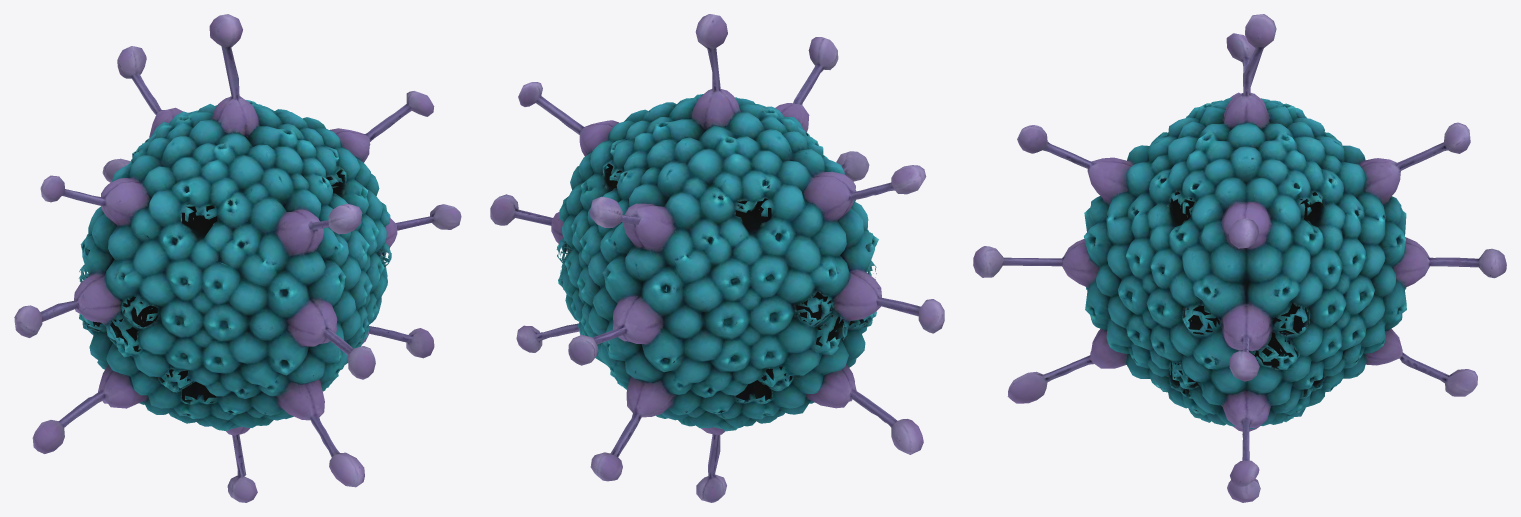
The model's file is guard.glb.
3 views of the same model, side by side, from view 1: azimuth 30°, elevation 25°; view 2: azimuth 150°, elevation 25°; view 3: azimuth 270°, elevation 25° (orthographic). The views are drawn at different scales.
Visible parts, largest first — view 1: attack-membrane; view 2: attack-membrane; view 3: attack-membrane.
Boxes of the visible parts, left/top/right/bottom form: attack-membrane: left=14, top=14, right=461, bottom=502; attack-membrane: left=490, top=14, right=944, bottom=502; attack-membrane: left=973, top=14, right=1506, bottom=502.
Bounding box in the file's own units: 1.93 × 2.01 × 2.02.
Materials: 1 (1 with a texture image).
